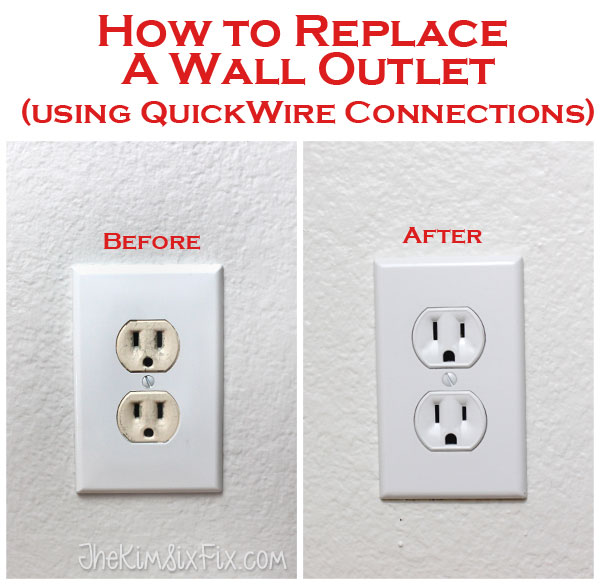outlet: (429, 397, 475, 448), (428, 316, 471, 365), (127, 325, 166, 368), (130, 398, 168, 440)
